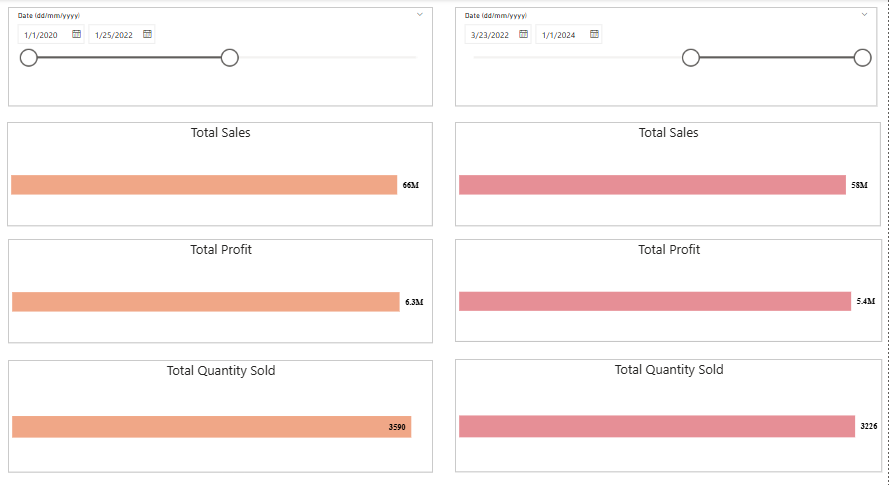

This screenshot's page, from the dashboard's own definition file:
{"tool":"powerbi","page":{"name":"Edit Interactions","canvas":[1280,720],"ordinal":3},"visuals":[{"type":"slicer","fields":{"Values":["Fact Table.Date (dd/mm/yyyy)"]},"box":[11.7,11.7,611.7,143.3],"z":0},{"type":"slicer","fields":{"Values":["Fact Table.Date (dd/mm/yyyy)"]},"box":[655,11.7,608.3,143.3],"z":1000},{"type":"clusteredBarChart","title":"Total Sales","fields":{"Y":["Sum(Fact Table.Total Sales)"]},"box":[10,176.7,613.3,150],"z":2000},{"type":"clusteredBarChart","title":"Total Profit","fields":{"Y":["Sum(Fact Table.Profit)"]},"box":[11.7,345,611.7,150],"z":3000},{"type":"clusteredBarChart","title":"Total Quantity Sold","fields":{"Y":["Sum(Fact Table.Units Sold)"]},"box":[11.7,520,611.7,161.7],"z":4000},{"type":"clusteredBarChart","title":"Total Sales","fields":{"Y":["Sum(Fact Table.Total Sales)"]},"box":[655,176.7,613.3,150],"z":5000},{"type":"clusteredBarChart","title":"Total Profit","fields":{"Y":["Sum(Fact Table.Profit)"]},"box":[655,345,615,148.3],"z":6000},{"type":"clusteredBarChart","title":"Total Quantity Sold","fields":{"Y":["Sum(Fact Table.Units Sold)"]},"box":[655,518.3,615,163.3],"z":7000}]}

Visuals, with their boxes on the page's 1280x720 design canvas (x1, y1, x2, y2). These are canvas units, not pixel positions in the 889x485 screenshot, which may show the page scaled, cropped or inside an application window:
slicer - Fact Table.Date (dd/mm/yyyy): region(12, 12, 623, 155)
slicer - Fact Table.Date (dd/mm/yyyy): region(655, 12, 1263, 155)
"Total Sales" clusteredBarChart: region(10, 177, 623, 327)
"Total Profit" clusteredBarChart: region(12, 345, 623, 495)
"Total Quantity Sold" clusteredBarChart: region(12, 520, 623, 682)
"Total Sales" clusteredBarChart: region(655, 177, 1268, 327)
"Total Profit" clusteredBarChart: region(655, 345, 1270, 493)
"Total Quantity Sold" clusteredBarChart: region(655, 518, 1270, 682)
